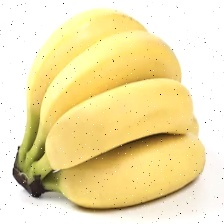banana: (47, 20, 190, 198)
